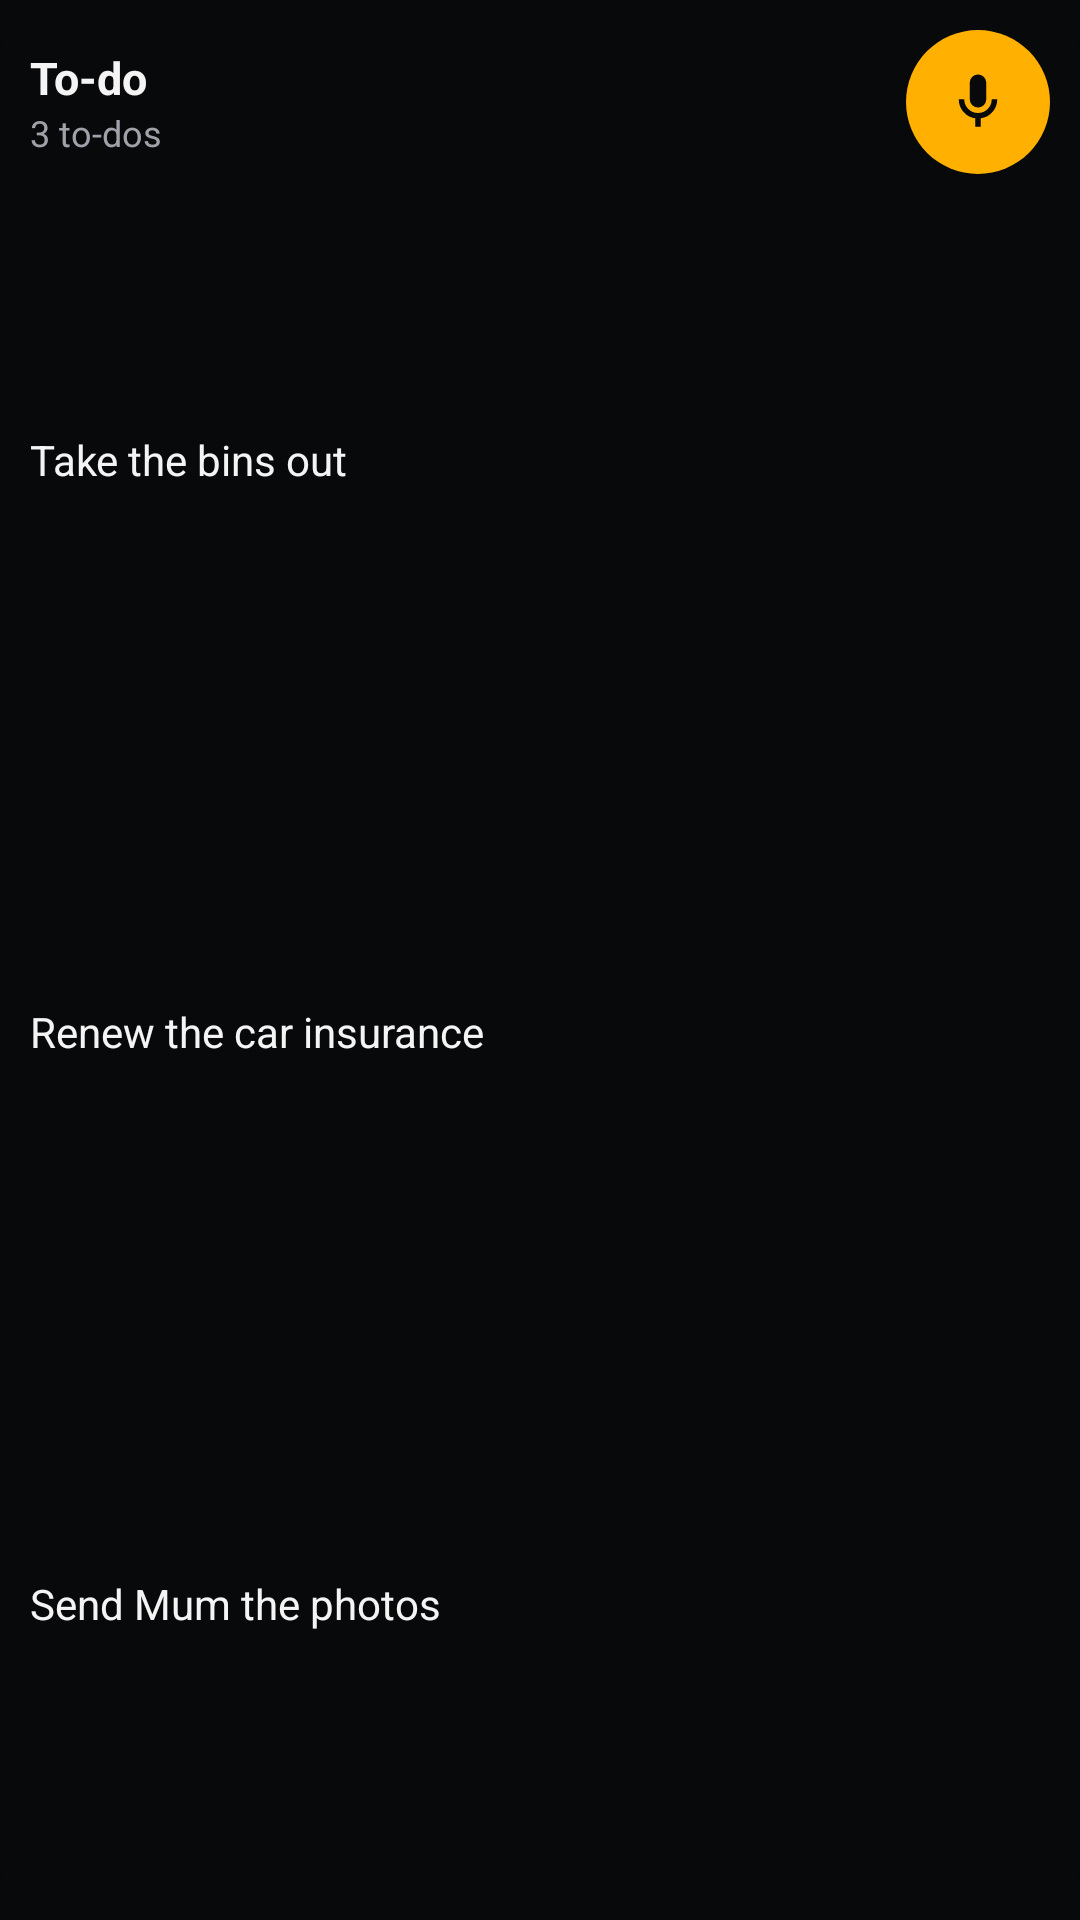

Icons on this 1080w x 1920h Android screen, each with its box as (x1, y1, x2, y2):
widget mic: (958, 74, 998, 127)
